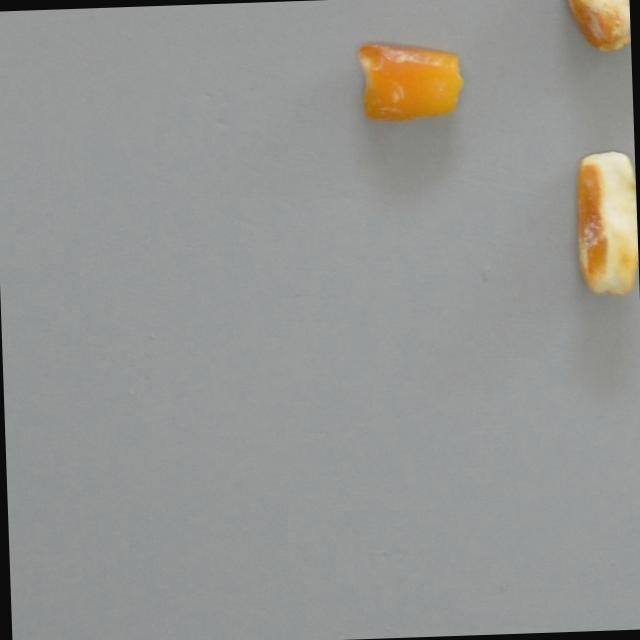dañado: (571, 149, 639, 300), (560, 0, 631, 55)
pelicula: (352, 33, 466, 125)
